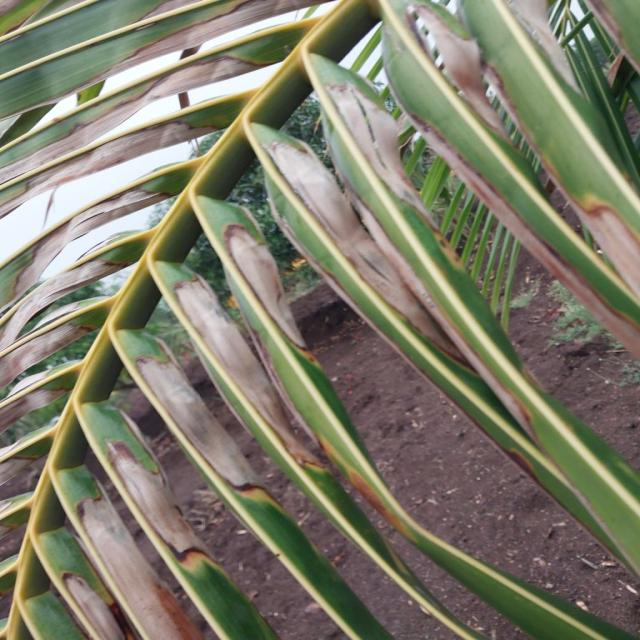gray leaf spot: (0, 10, 535, 623)
